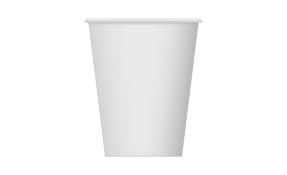cup: (83, 14, 209, 166)
